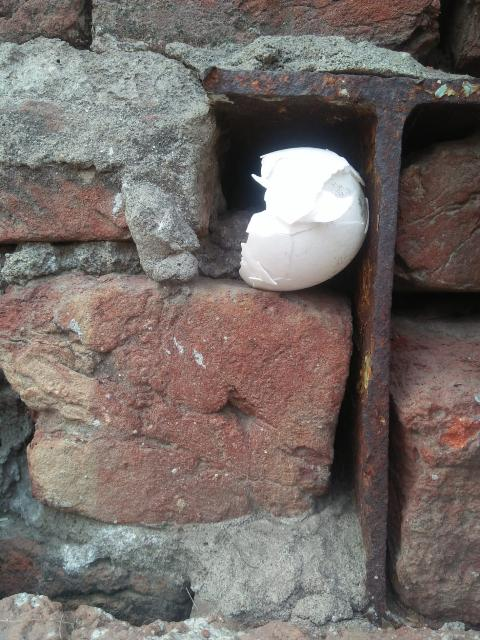Roto: (238, 145, 370, 292)
